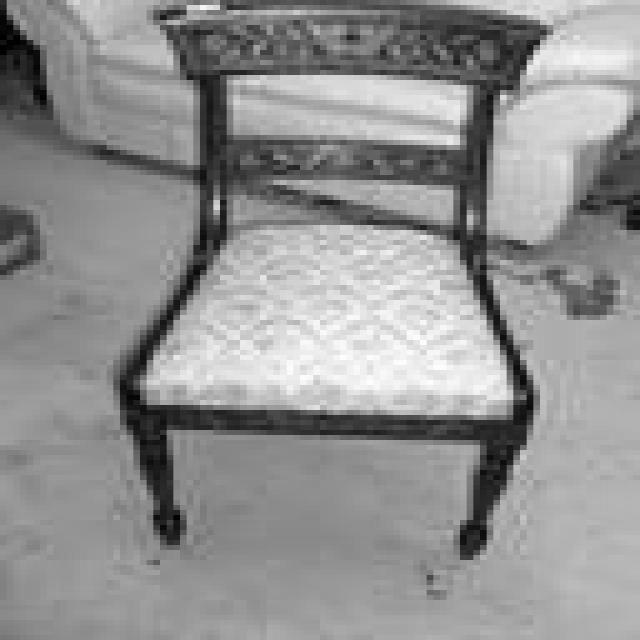chair: (111, 6, 553, 564)
